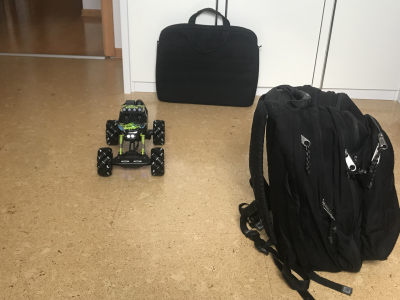remote control car: (95, 97, 167, 180)
